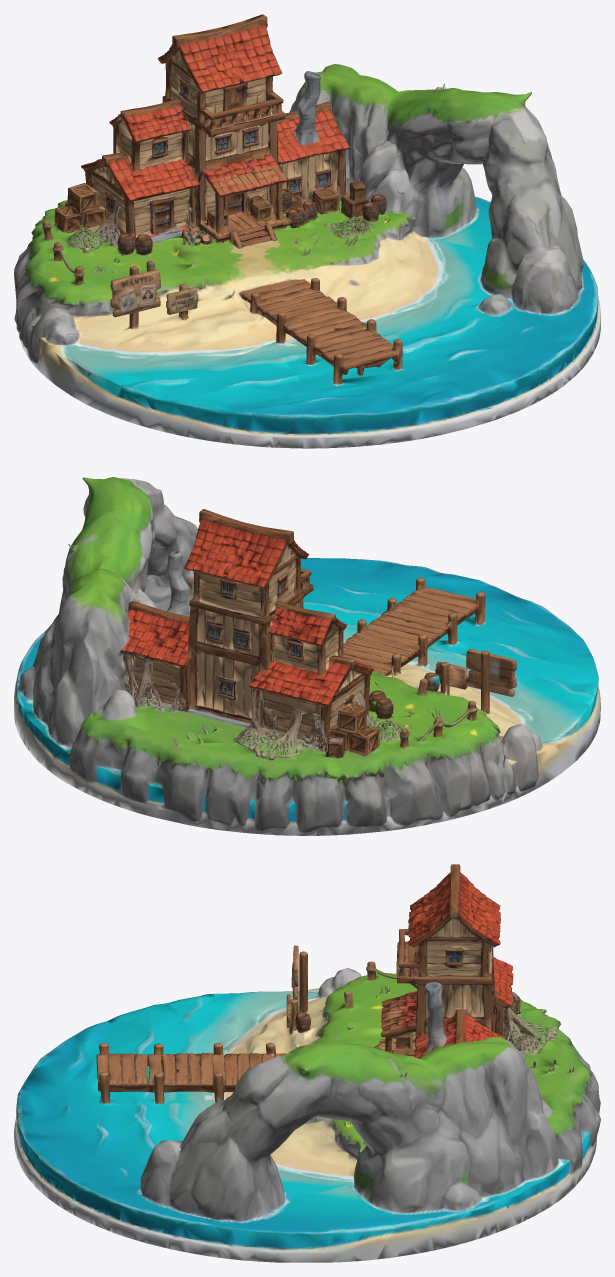
The model's file is island_sobre_parts.glb.
3 views of the same model, one above another, from view 1: azimuth 30°, elevation 25°; view 2: azimuth 150°, elevation 25°; view 3: azimuth 270°, elevation 25° (orthographic).
Visible parts, largest first — view 1: Island, Chimney; view 2: Island, Chimney; view 3: Island, Chimney.
Part boxes in pixels (x1,y1,x2,y2): Island: (14, 14, 600, 448); Chimney: (293, 71, 320, 135); Island: (14, 477, 600, 835); Chimney: (166, 550, 189, 615); Island: (14, 864, 600, 1262); Chimney: (424, 982, 447, 1050).
Bounding box in the file's own units: 1.89 × 0.8846 × 1.9.
Materials: 1 (1 with a texture image).
